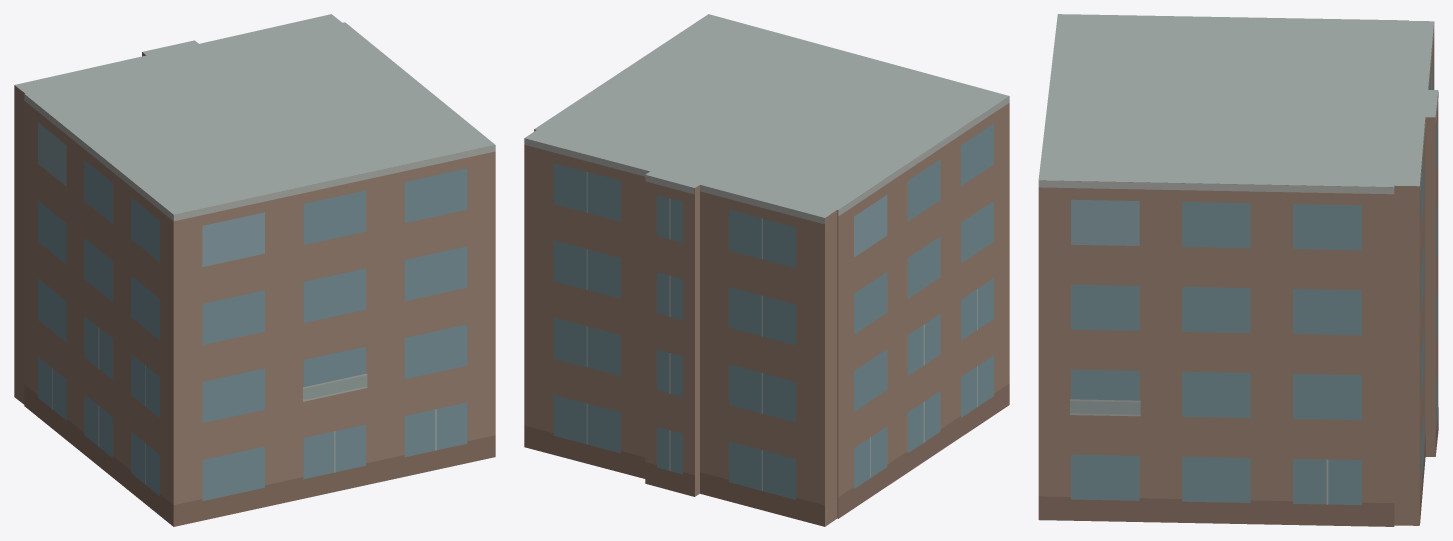
File: survey-upis-32653432.glb
The picture shows the model from 3 angles, left to right: view 1: azimuth 30°, elevation 25°; view 2: azimuth 150°, elevation 25°; view 3: azimuth 270°, elevation 25°; orthographic projection. The views are drawn at different scales.
Visible parts, largest first — view 1: survey-upis-32653432.tmp; view 2: survey-upis-32653432.tmp; view 3: survey-upis-32653432.tmp.
Boxes of the visible parts, bbox=[...] form: survey-upis-32653432.tmp: bbox=[14, 14, 495, 526]; survey-upis-32653432.tmp: bbox=[524, 14, 1009, 526]; survey-upis-32653432.tmp: bbox=[1038, 14, 1438, 526].
Bounding box in the file's own units: 12.69 × 11.6 × 12.39.
